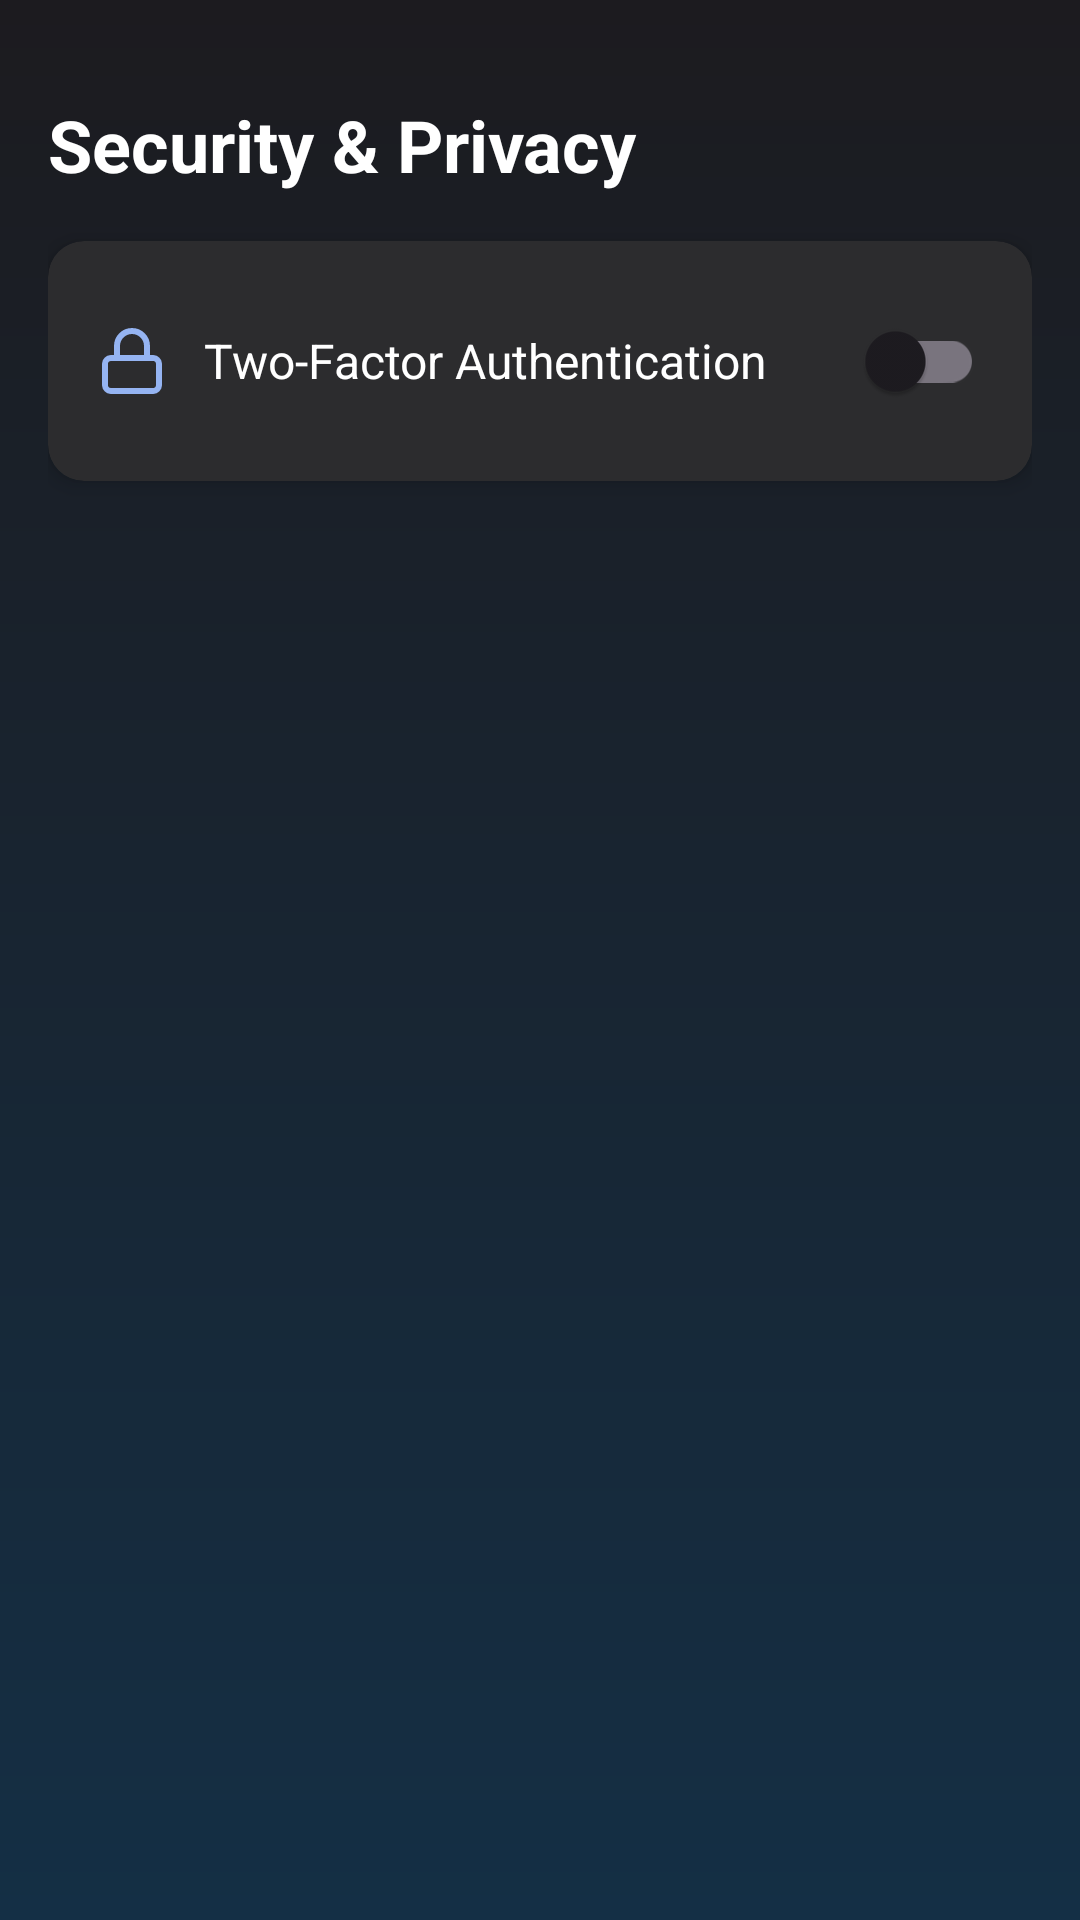

Named icons in this screenshot (1080x1920) and their bounding boxes, (left=x1, top=y1, right=x2, bottom=y2):
lock: (left=102, top=328, right=162, bottom=394)
